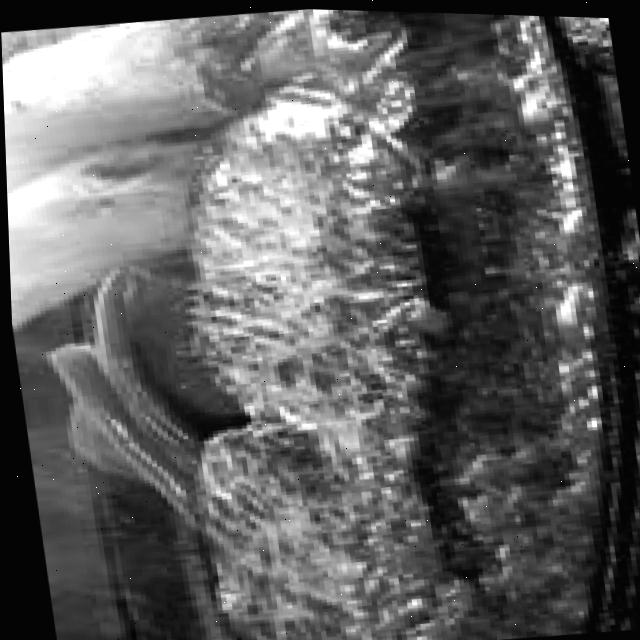牛肉菜式: (107, 2, 606, 640)
